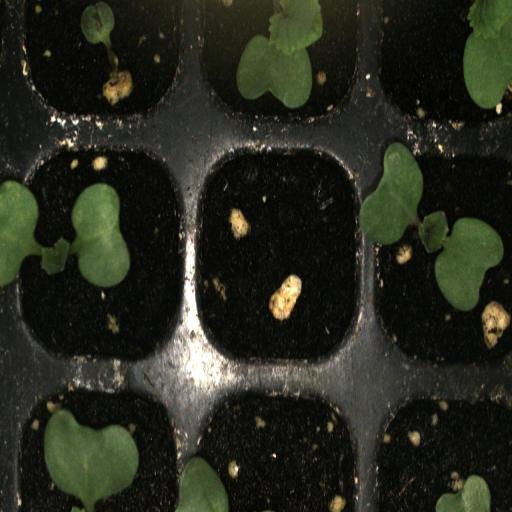Folha: (0, 180, 130, 288), (236, 0, 336, 109), (44, 408, 139, 512), (463, 0, 512, 109), (175, 456, 229, 512), (436, 474, 491, 512)
Germinacao: (10, 129, 190, 376), (369, 130, 512, 378)
